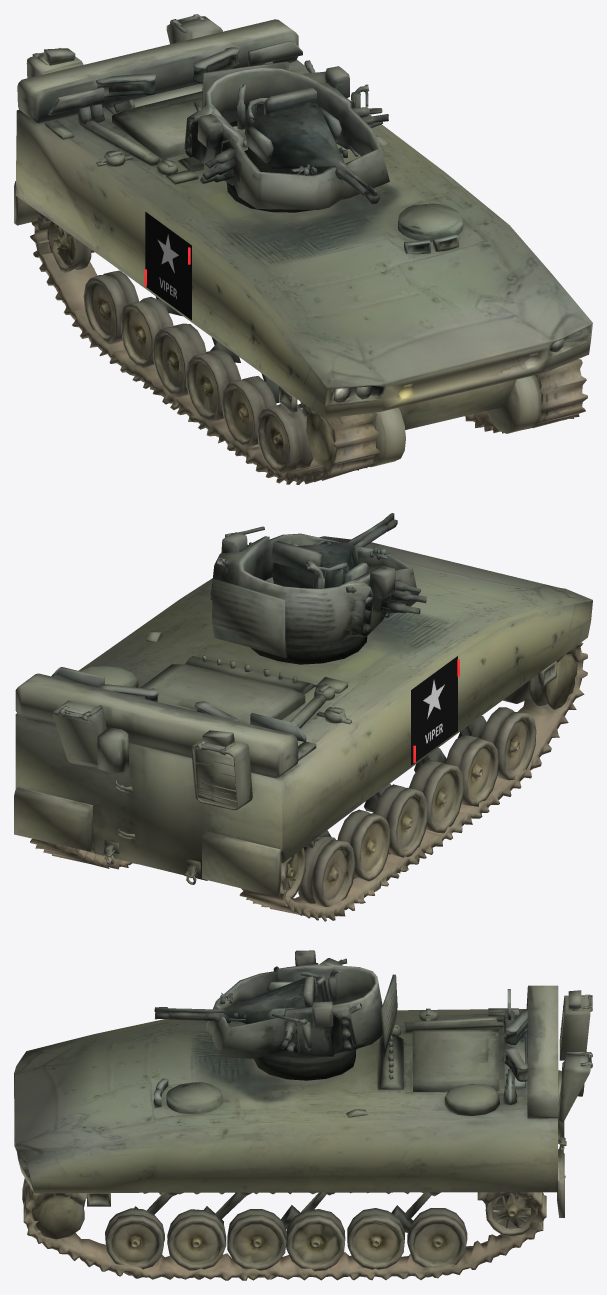
Rendered from Op4 Viper.glb.
3 views of the same model, one above another, from view 1: azimuth 30°, elevation 25°; view 2: azimuth 150°, elevation 25°; view 3: azimuth 270°, elevation 25° (orthographic). The views are drawn at different scales.
Parts seen in each view (by area): view 1: tripo_node_b858fb1a.007, tripo_node_b858fb1a.008, Plane.007; view 2: tripo_node_b858fb1a.007, tripo_node_b858fb1a.008, Plane.007; view 3: tripo_node_b858fb1a.007, tripo_node_b858fb1a.008.
Boxes of the visible parts, x1,y1,x2,y2 form: tripo_node_b858fb1a.007: [14, 14, 592, 484]; tripo_node_b858fb1a.008: [184, 60, 389, 212]; Plane.007: [144, 211, 191, 320]; tripo_node_b858fb1a.007: [14, 536, 592, 921]; tripo_node_b858fb1a.008: [210, 513, 426, 664]; Plane.007: [411, 656, 459, 765]; tripo_node_b858fb1a.007: [14, 985, 592, 1280]; tripo_node_b858fb1a.008: [154, 950, 397, 1080].
Size of the model in its own units: 1.35 by 1.37 by 2.93.
3 materials, 2 textured.
